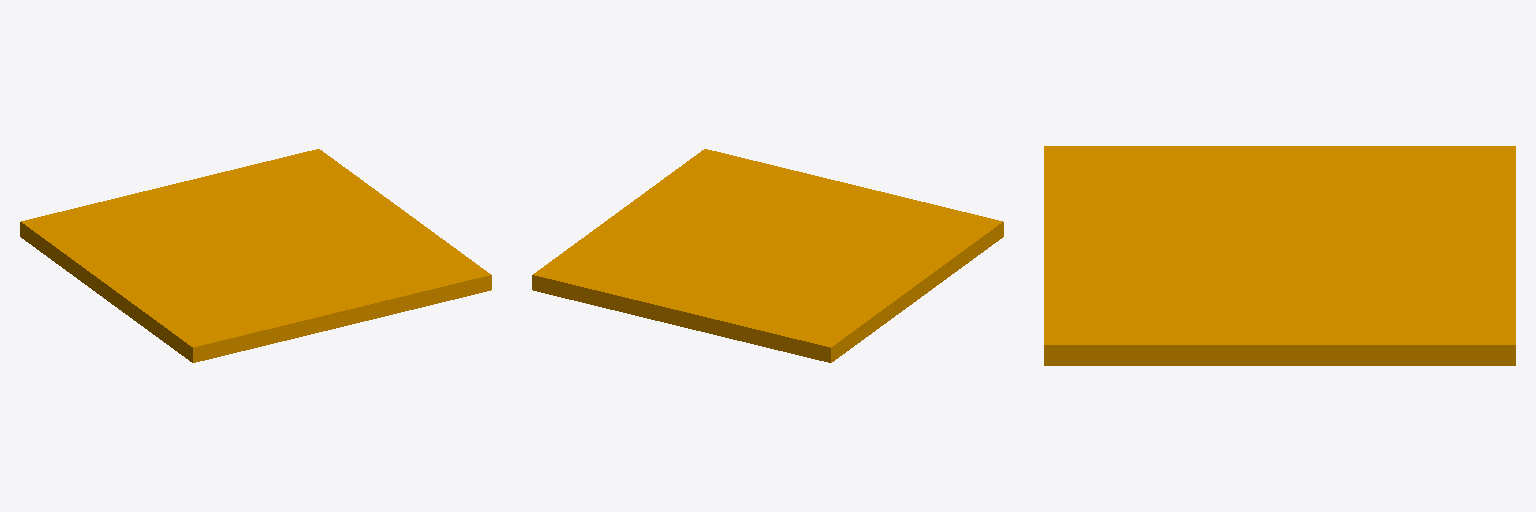
robot.urdf — box:
<?xml version="0.0" ?>
<robot name="box">
    <link name="box">
        <inertial>
            <origin rpy="0 0 0" xyz="0 0 0"/>
            <mass value="10.0"/>
            <inertia ixx="334.16666666666669" ixy="0" ixz="0" iyy="334.16666666666669" iyz="0" izz="666.66666666666674"/>
        </inertial>
        <visual>
            <origin rpy="0 0 0" xyz="0 0 0"/>
            <geometry>
                <box size="20 20 1"/>
            </geometry>
            <material name="bullet">
                <color rgba="0.6667, 0.2745, 0.2627 1"/>
            </material>
        </visual>
        <collision>
            <origin rpy="0 0 0" xyz="0 0 0"/>
            <geometry>
                <box size="20 20 1"/>
            </geometry>
        </collision>
    </link>
</robot>

--- What the picture shows (computed from the rendered views, not written in the file) ---
The picture shows the robot from 3 angles, left to right: view 1: azimuth 30°, elevation 25°; view 2: azimuth 150°, elevation 25°; view 3: azimuth 270°, elevation 25°; orthographic projection.
Robot: box — 1 links, 0 joints (none); root link box; default pose: every joint at zero.
Visible links, largest first — view 1: box; view 2: box; view 3: box.
Link boxes in pixels (box(x1,y1,x2,y2)): box: box(20, 149, 491, 362); box: box(532, 149, 1003, 362); box: box(1044, 146, 1515, 365).
Bounding box of the posed robot: 20 × 20 × 1 m (x, y, z).
Geometry: primitives only (box / cylinder / sphere), no mesh files.